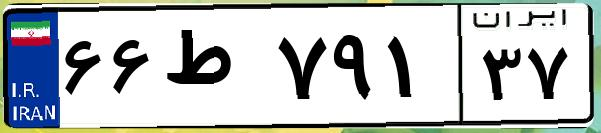1: (385, 28, 445, 110)
3: (475, 38, 525, 113)
6: (57, 26, 110, 100), (110, 28, 158, 98)
7: (270, 28, 330, 110), (525, 38, 570, 115)
9: (330, 28, 385, 110)
ط: (158, 20, 270, 120)
